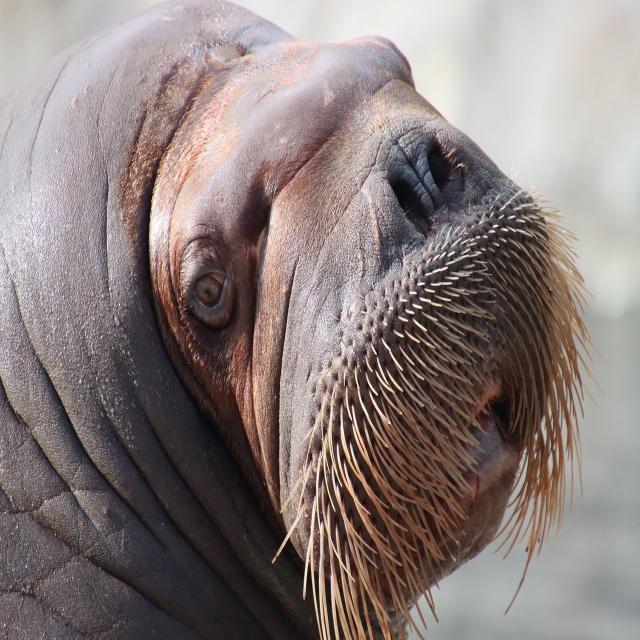walrus: (29, 18, 590, 626)
